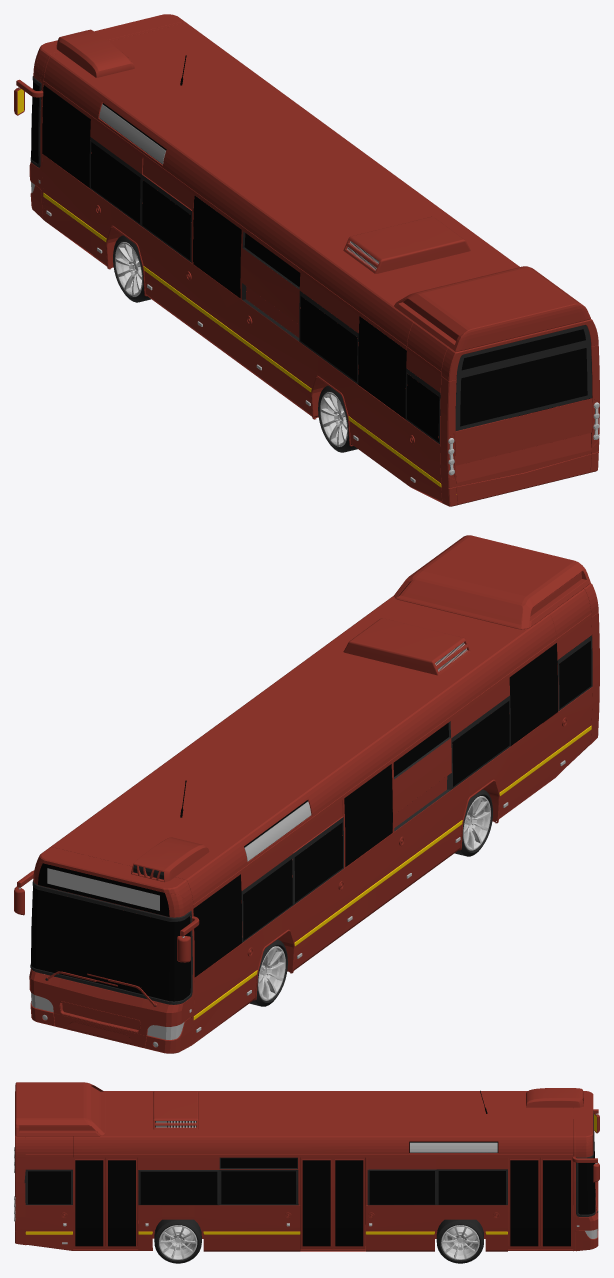
The model's file is bus.glb.
3 renders of one model, top to bottom at view 1: azimuth 30°, elevation 25°; view 2: azimuth 150°, elevation 25°; view 3: azimuth 270°, elevation 25°, orthographic. The views are drawn at different scales.
Visible parts, largest first — view 1: bus_car, back_left, front_left, Light_LED; view 2: bus_car, Light_LED, back_left, front_left; view 3: bus_car, back_right, front_right, Light_LED.
Boxes of the visible parts, x1,y1,x2,y2 form: bus_car: (14, 14, 599, 506); back_left: (318, 385, 357, 452); front_left: (113, 235, 150, 302); Light_LED: (38, 104, 415, 482); bus_car: (14, 535, 599, 1053); Light_LED: (42, 760, 565, 1047); back_left: (454, 789, 492, 856); front_left: (249, 939, 287, 1006); bus_car: (14, 1082, 599, 1251); back_right: (154, 1219, 201, 1263); front_right: (436, 1219, 483, 1263); Light_LED: (62, 1142, 579, 1244).
Size of the model in its own units: 2.95 by 3.5 by 12.43.
